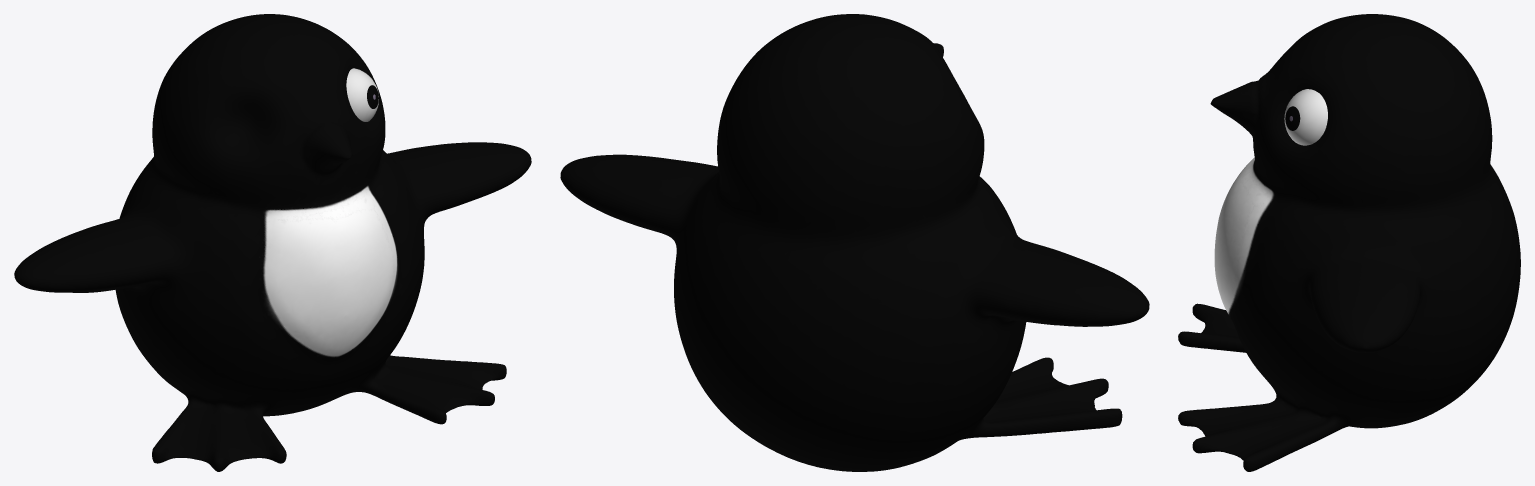
File: pingouin2.glb
3 views of the same model, side by side, from view 1: azimuth 30°, elevation 25°; view 2: azimuth 150°, elevation 25°; view 3: azimuth 270°, elevation 25° (orthographic). The views are drawn at different scales.
Visible parts, largest first — view 1: Icosphère.003, Sphère; view 2: Icosphère.003; view 3: Icosphère.003, Sphère.
Boxes of the visible parts, x1,y1,x2,y2 form: Icosphère.003: (14,14,531,471); Sphère: (346,68,378,121); Icosphère.003: (560,14,1149,471); Icosphère.003: (1178,14,1520,471); Sphère: (1284,89,1327,145).
Size of the model in its own units: 6.03 by 4.25 by 3.41.
Materials: 4 (1 with a texture image).
